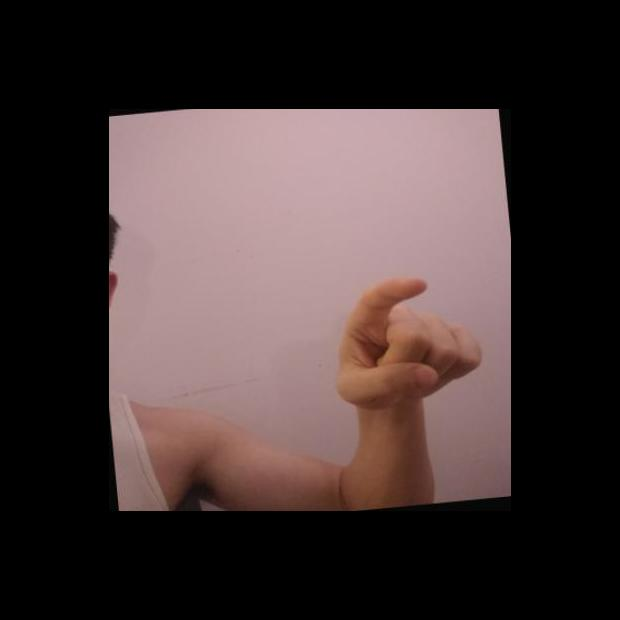Y: (322, 268, 490, 415)
